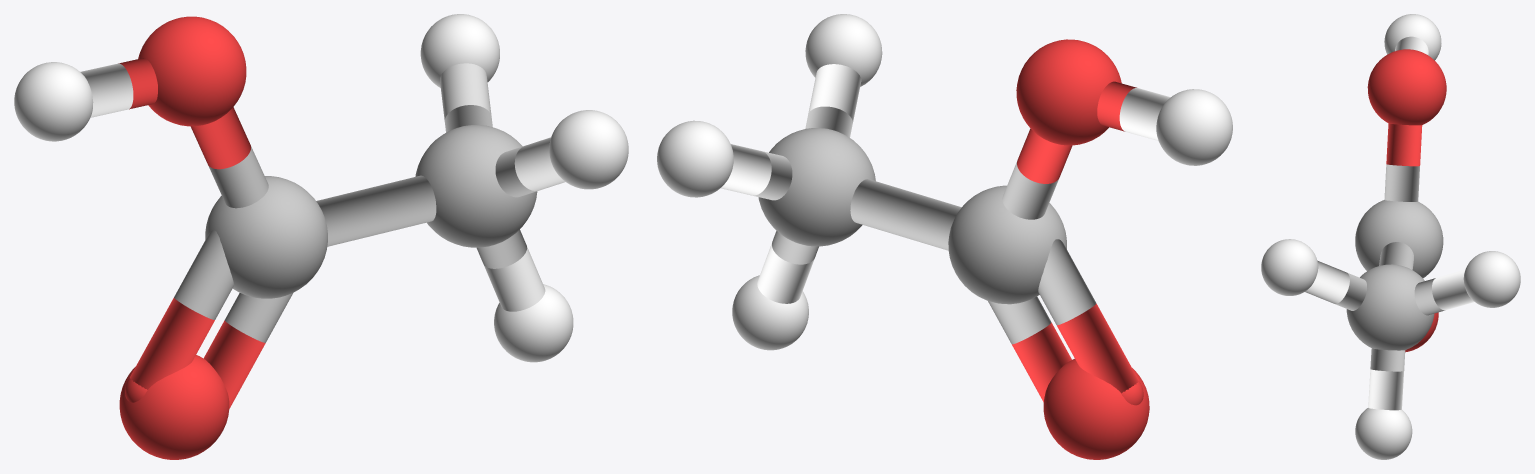
File: acide.glb
3 views of the same model, side by side, from view 1: azimuth 30°, elevation 25°; view 2: azimuth 150°, elevation 25°; view 3: azimuth 270°, elevation 25° (orthographic). The views are drawn at different scales.
Parts seen in each view (by area): view 1: Object_2, Object_3, Object_4; view 2: Object_2, Object_3, Object_4; view 3: Object_2, Object_4, Object_3.
Part boxes in pixels (x1,y1,x2,y2): Object_2: (174,105,537,342); Object_3: (118,16,265,459); Object_4: (14,14,628,362); Object_2: (751,106,1096,344); Object_3: (1012,39,1149,459); Object_4: (657,14,1232,350); Object_2: (1335,164,1444,371); Object_4: (1261,14,1520,459); Object_3: (1367,49,1446,352).
Bounding box in the file's own units: 3.89 × 2.97 × 2.3.
